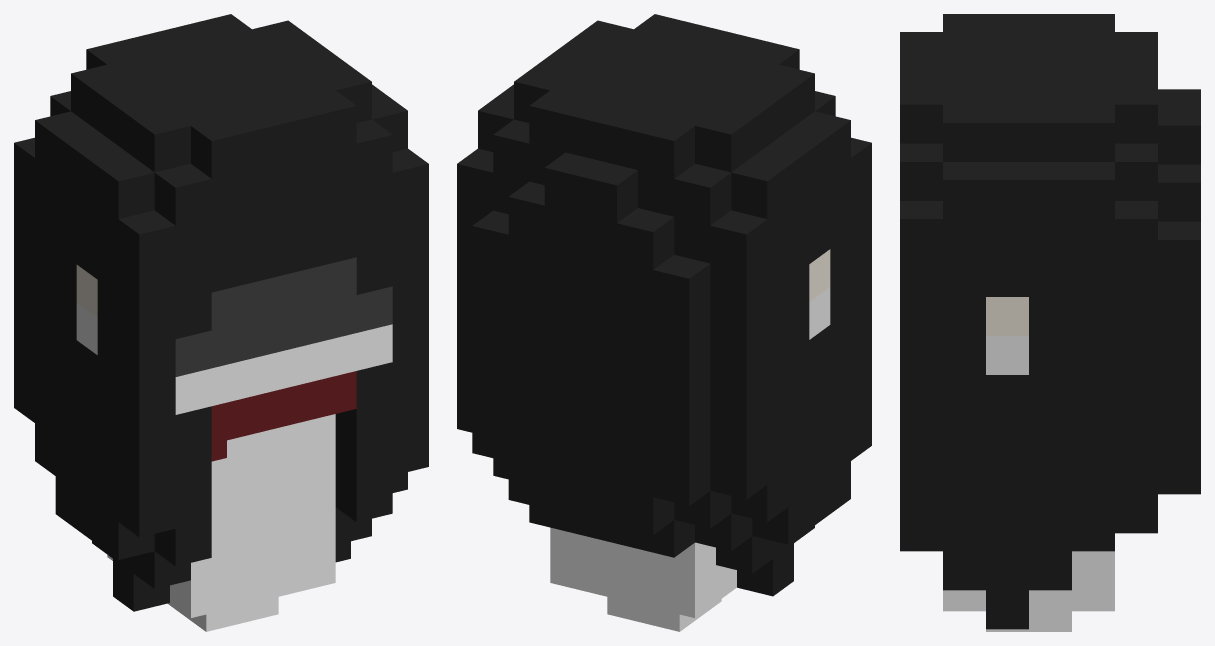
File: Banshee - 3D.obj
3 renders of one model, left to right at view 1: azimuth 30°, elevation 25°; view 2: azimuth 150°, elevation 25°; view 3: azimuth 270°, elevation 25°, orthographic. The views are drawn at different scales.
Bounding box in the file's own units: 0.8 × 1.4 × 0.7.
1 material, 1 textured.
